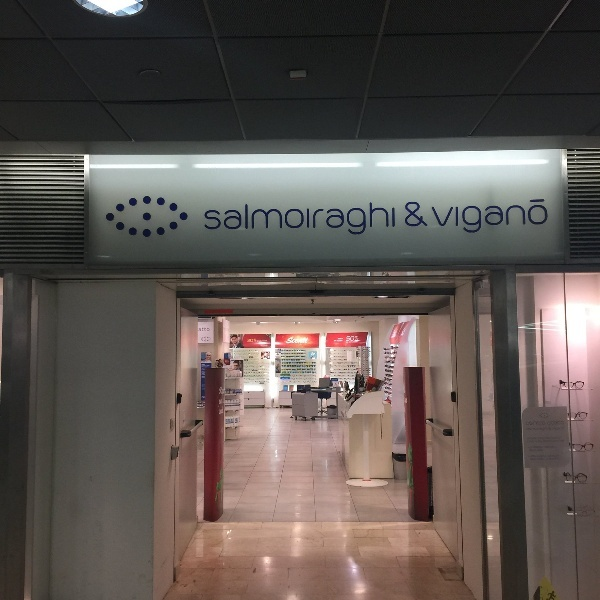text: (433, 196, 448, 238), (449, 196, 464, 238), (465, 196, 480, 238), (481, 196, 496, 238), (497, 196, 512, 238), (513, 196, 528, 238), (529, 196, 544, 238), (209, 199, 224, 239), (225, 199, 240, 239), (241, 199, 256, 239), (257, 199, 272, 239), (273, 199, 288, 239), (289, 199, 304, 239), (305, 199, 320, 239), (321, 199, 336, 239), (337, 199, 352, 239), (353, 199, 368, 239), (369, 199, 384, 239), (385, 199, 398, 239), (404, 200, 416, 229), (417, 200, 428, 229), (545, 196, 551, 238), (204, 199, 208, 239), (289, 337, 304, 344), (405, 397, 416, 404), (529, 421, 544, 426), (529, 426, 544, 431), (545, 426, 560, 431), (219, 397, 224, 409), (548, 420, 560, 425), (529, 436, 544, 440), (545, 436, 560, 440), (529, 440, 544, 444), (545, 440, 560, 444), (545, 454, 560, 458), (530, 446, 544, 450), (530, 454, 544, 458), (219, 387, 224, 398), (545, 446, 558, 450), (198, 327, 208, 332), (247, 338, 256, 343), (545, 458, 560, 461), (431, 196, 432, 238), (346, 335, 352, 342), (353, 335, 359, 342), (530, 449, 544, 452), (531, 458, 544, 461), (311, 352, 320, 356), (219, 408, 224, 415), (338, 338, 352, 340), (305, 337, 308, 344), (561, 420, 565, 425), (561, 426, 565, 431), (561, 440, 565, 444), (286, 337, 288, 344), (337, 340, 343, 342), (526, 421, 528, 426), (526, 426, 528, 431), (561, 436, 563, 440), (209, 327, 210, 332), (545, 421, 546, 426), (334, 340, 336, 342), (527, 436, 528, 440), (527, 440, 528, 444)
